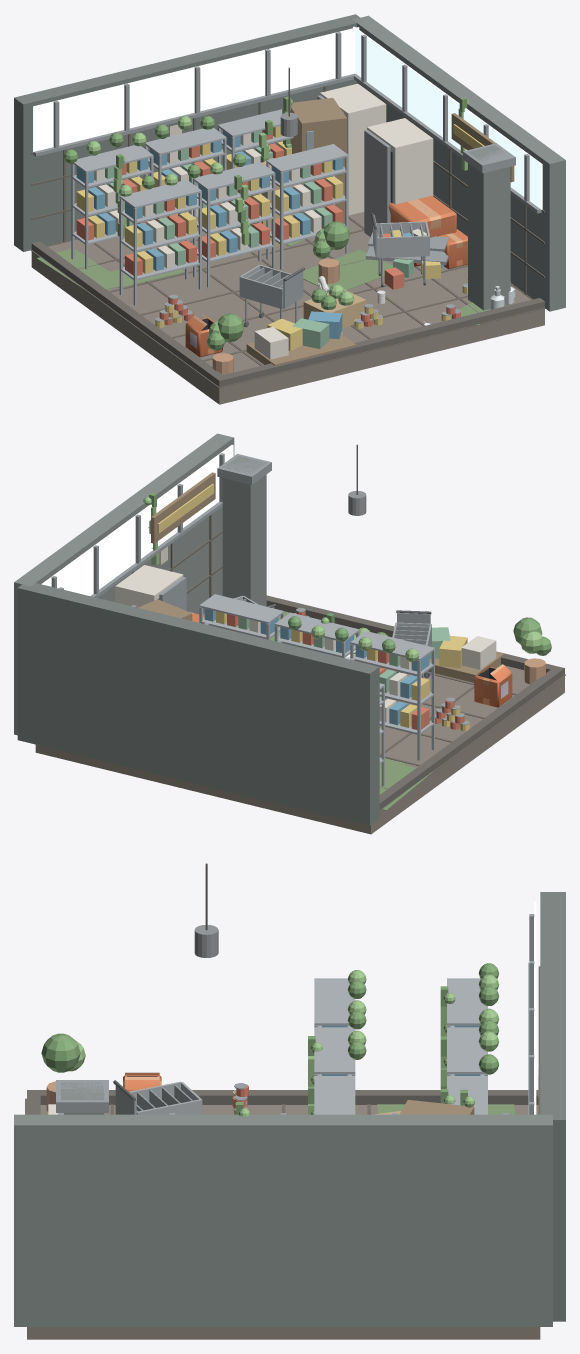
File: mall_food.glb
3 views of the same model, one above another, from view 1: azimuth 30°, elevation 25°; view 2: azimuth 150°, elevation 25°; view 3: azimuth 270°, elevation 25° (orthographic). The views are drawn at different scales.
Visible parts, largest first — view 1: Backpack, box; view 2: Backpack, box; view 3: Backpack, box.
Boxes of the visible parts, <box> form: Backpack: <box>14,14,565,404</box>; box: <box>185,195,467,357</box>; Backpack: <box>14,433,565,834</box>; box: <box>189,612,512,707</box>; Backpack: <box>14,863,565,1339</box>; box: <box>123,1072,161,1091</box>.
Bounding box in the file's own units: 6.45 × 4.5 × 6.45.
Materials: 47 (3 with a texture image).
